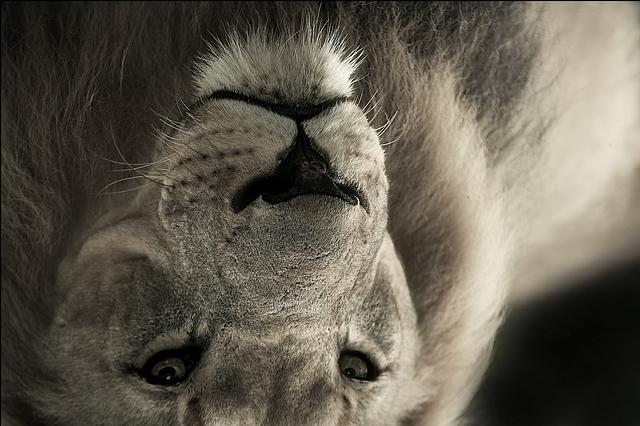cat: (2, 1, 640, 426)
